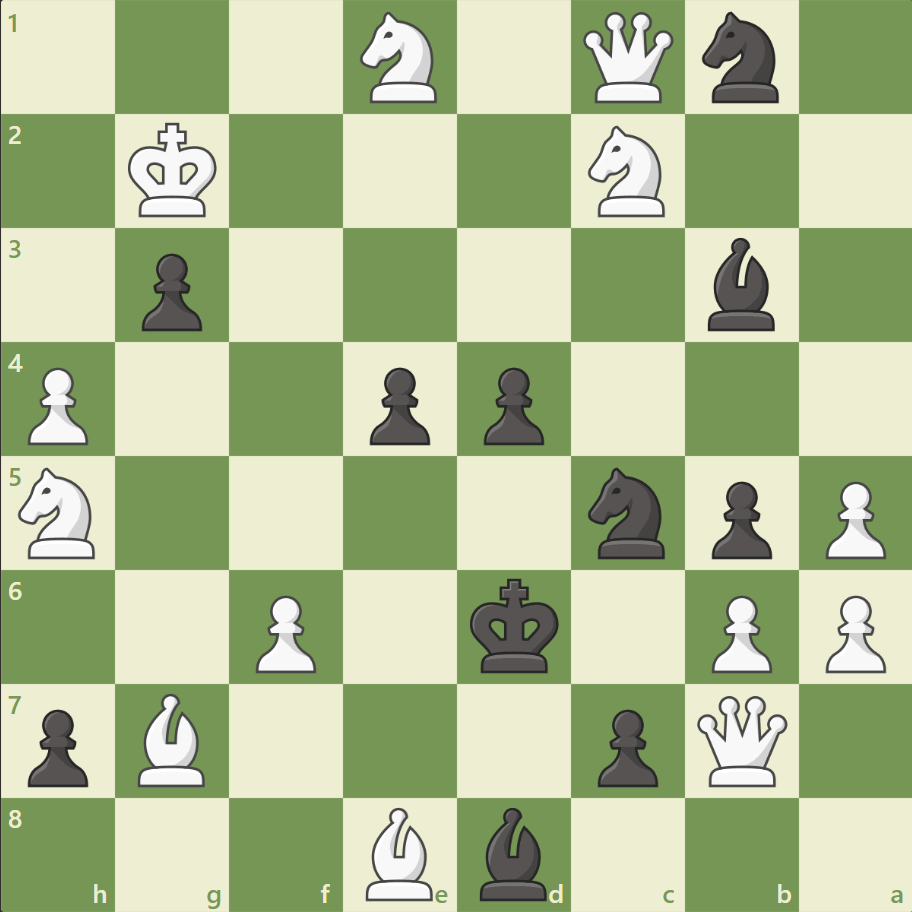B: (358, 801, 442, 904), (131, 687, 215, 790)
K: (124, 117, 224, 225)
N: (351, 7, 449, 110), (11, 461, 108, 564), (579, 121, 676, 223)
P: (701, 586, 776, 677), (247, 586, 322, 677), (20, 359, 95, 450), (815, 586, 889, 677), (815, 473, 889, 564)
Q: (691, 690, 790, 789), (578, 9, 677, 108)
b: (471, 801, 555, 904), (698, 233, 782, 336)
k: (465, 571, 565, 679)
n: (579, 461, 676, 564), (692, 7, 789, 110)
p: (20, 700, 95, 791), (701, 473, 776, 564), (474, 359, 549, 450), (133, 246, 208, 337), (588, 700, 662, 791), (361, 359, 435, 450)
